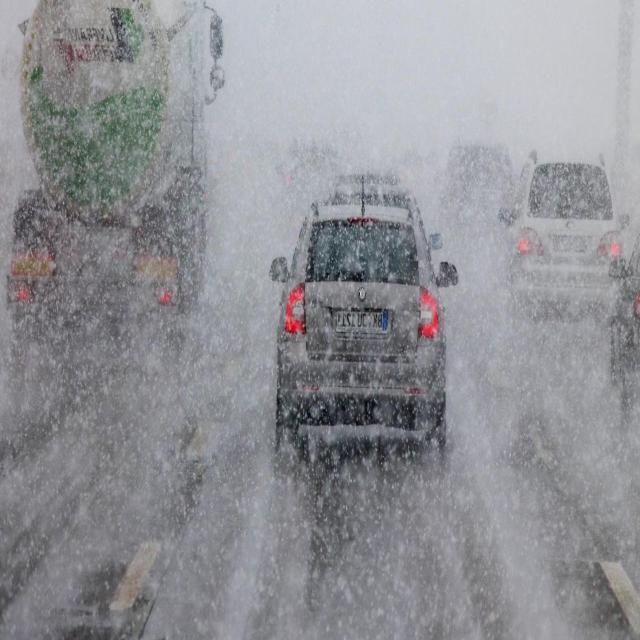Car: (279, 195, 437, 446), (512, 171, 626, 335)
Van: (1, 27, 210, 367)
